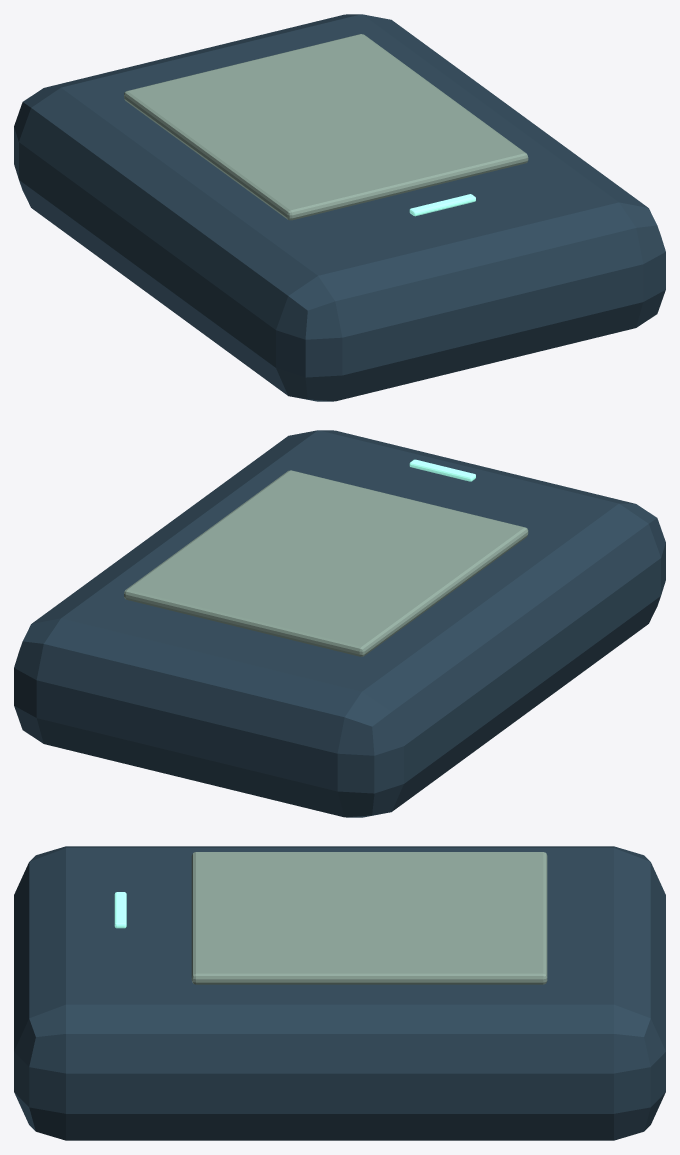
The model's file is backup_drive.glb.
3 views of the same model, one above another, from view 1: azimuth 30°, elevation 25°; view 2: azimuth 150°, elevation 25°; view 3: azimuth 270°, elevation 25° (orthographic). The views are drawn at different scales.
Parts seen in each view (by area): view 1: backup_drive_Mesh; view 2: backup_drive_Mesh; view 3: backup_drive_Mesh.
Part boxes in pixels (x1,y1,x2,y2): backup_drive_Mesh: (14, 14, 665, 401); backup_drive_Mesh: (14, 430, 665, 817); backup_drive_Mesh: (14, 846, 665, 1140).
Size of the model in its own units: 0.16 by 0.057 by 0.22.
